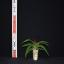leaf: (36, 45, 49, 57), (25, 45, 36, 59), (20, 39, 36, 46), (36, 42, 50, 48), (22, 43, 36, 48), (36, 41, 51, 45), (27, 48, 35, 55), (36, 46, 44, 50), (36, 48, 44, 51), (34, 39, 36, 44)
